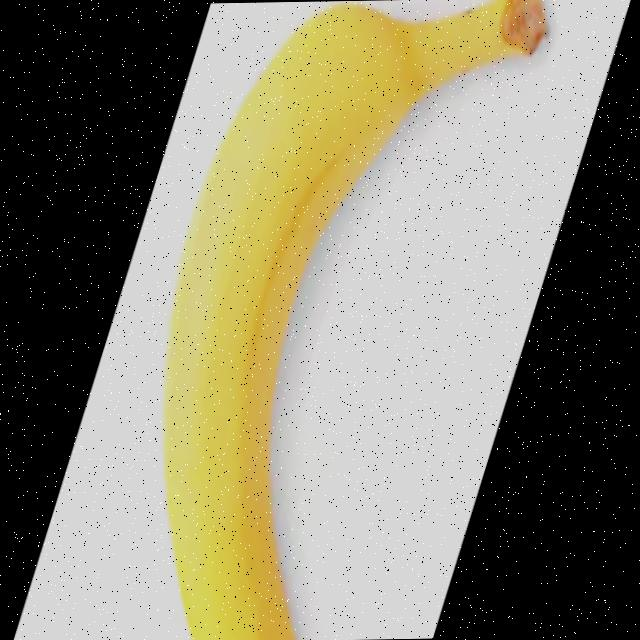banana: (152, 0, 553, 640)
